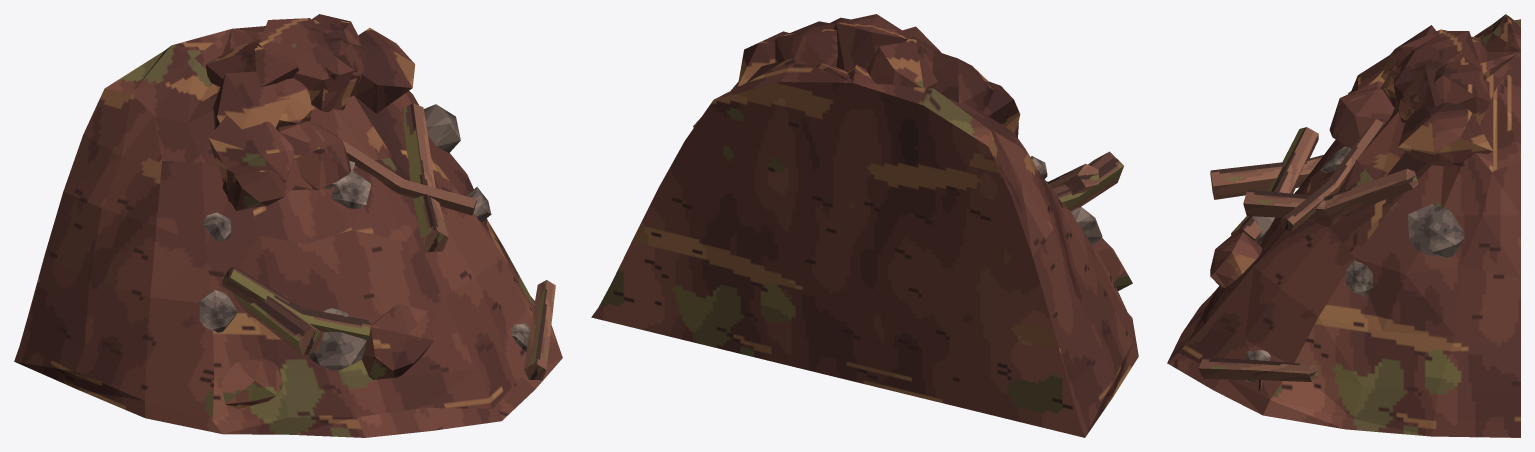
File: SM_AN42_Rubble_B.fbx
3 views of the same model, side by side, from view 1: azimuth 30°, elevation 25°; view 2: azimuth 150°, elevation 25°; view 3: azimuth 270°, elevation 25° (orthographic). The views are drawn at different scales.
Parts seen in each view (by area): view 1: AN42b_Earth, AN42b_Root, AN42b_Props; view 2: AN42b_Earth, AN42b_Root, AN42b_Props; view 3: AN42b_Earth, AN42b_Root, AN42b_Props.
Part boxes in pixels (<box>): AN42b_Earth: <box>14,14,562,437</box>; AN42b_Root: <box>222,103,555,380</box>; AN42b_Props: <box>199,104,530,370</box>; AN42b_Earth: <box>591,14,1138,437</box>; AN42b_Root: <box>1046,151,1123,210</box>; AN42b_Props: <box>693,118,1102,246</box>; AN42b_Earth: <box>1167,14,1520,437</box>; AN42b_Root: <box>1198,119,1418,390</box>; AN42b_Props: <box>1245,145,1464,382</box>.
Size of the model in its own units: 2.25 by 1.42 by 1.54.
